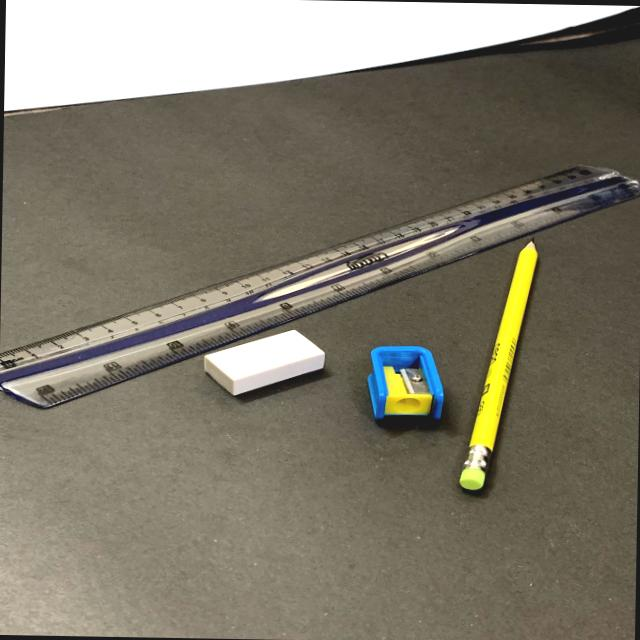Eraser: (173, 317, 342, 419)
Pencil: (429, 235, 586, 526)
Scale: (0, 142, 640, 415)
Sharpner: (347, 325, 464, 439)
